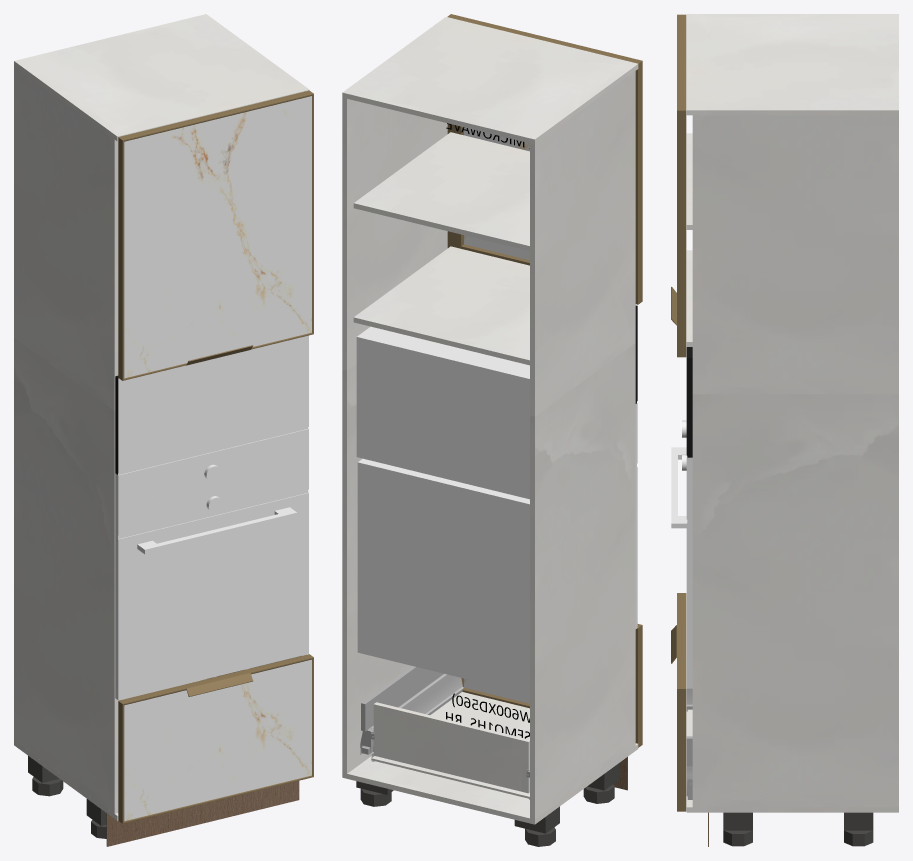
File: TC-MO-TTS-ST-1SX-1HB-LHS-600-2040-560-15.glb
3 views of the same model, side by side, from view 1: azimuth 30°, elevation 25°; view 2: azimuth 150°, elevation 25°; view 3: azimuth 270°, elevation 25° (orthographic). The views are drawn at different scales.
Visible parts, largest first — view 1: TP_node_0, Object_node_45, SKP_Component1_node, SKP_Component1_node_2, Object_node_43, TP, Object_node_47, Extrusion_node_11, Extrusion_node_10, ExtrSplGeo, Extrusion_node, Extrusion_node_4 (+1 smaller); view 2: TP_node_0, SKP_Component0_node_1, SKP_Component0_node_2, TP_node_1, TP, TP_node_4, TP_node_5, TP_node_3, TP_node, TP_node_2, Extrusion_node_11, Object_node_39 (+7 smaller); view 3: TP_node_1, TP, Extrusion_node_9, SKP_Component1_node, TP_node, Extrusion_node_2, Extrusion_node_10, SKP_Component0_node_3, TP_node_4, TP_node_5, Extrusion_node, Plate_node_1 (+4 smaller).
Boxes of the visible parts, x1,y1,x2,y2 form: TP_node_0: (14, 66, 118, 813); Object_node_45: (124, 96, 311, 378); SKP_Component1_node: (115, 458, 308, 700); SKP_Component1_node_2: (115, 335, 308, 504); Object_node_43: (124, 659, 311, 820); TP: (14, 14, 309, 141); Object_node_47: (106, 781, 299, 846); Extrusion_node_11: (118, 137, 124, 380); Extrusion_node_10: (118, 90, 313, 141); ExtrSplGeo: (182, 669, 253, 696); Extrusion_node: (118, 654, 313, 705); Extrusion_node_4: (118, 701, 124, 823); TP_node_0: (530, 71, 635, 819); SKP_Component0_node_1: (357, 458, 529, 694); SKP_Component0_node_2: (356, 326, 529, 499); TP_node_1: (342, 97, 447, 773); TP: (342, 17, 638, 144); TP_node_4: (353, 246, 529, 365); TP_node_5: (353, 132, 529, 250); TP_node_3: (373, 702, 529, 793); TP_node: (342, 743, 638, 824); TP_node_2: (371, 692, 529, 798); Extrusion_node_11: (635, 61, 642, 304); Object_node_39: (361, 666, 443, 731); TP_node_1: (692, 115, 898, 807); TP: (686, 14, 898, 115); Extrusion_node_9: (677, 110, 686, 357); SKP_Component1_node: (671, 447, 692, 688); TP_node: (686, 711, 898, 812); Extrusion_node_2: (677, 689, 686, 811); Extrusion_node_10: (677, 14, 686, 110); SKP_Component0_node_3: (686, 347, 692, 457); TP_node_4: (686, 250, 692, 346); TP_node_5: (686, 133, 692, 229); Extrusion_node: (677, 593, 686, 688); Plate_node_1: (723, 812, 752, 830).
Size of what is drawn, in the model's own units: 0.6 by 2.14 by 0.6.
Materials: 9 (3 with a texture image).
